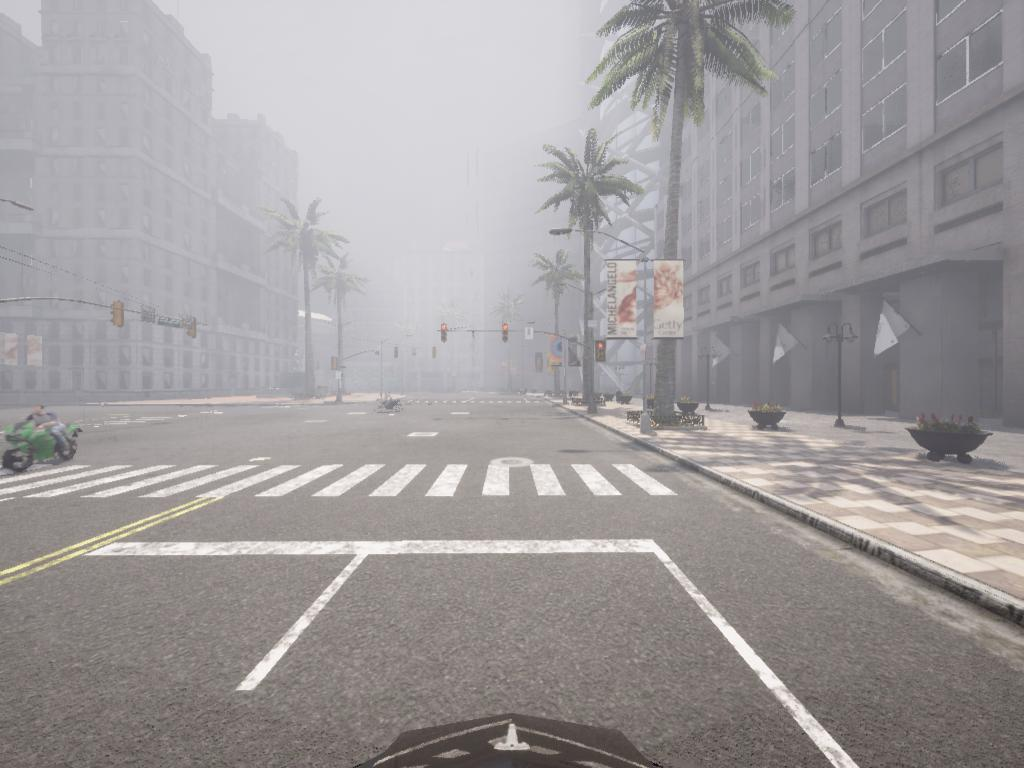traffic_light: (110, 303, 123, 330), (188, 317, 198, 342), (597, 345, 608, 364), (333, 356, 340, 376), (502, 325, 510, 341), (394, 347, 401, 361), (442, 326, 449, 339), (433, 347, 438, 364)
